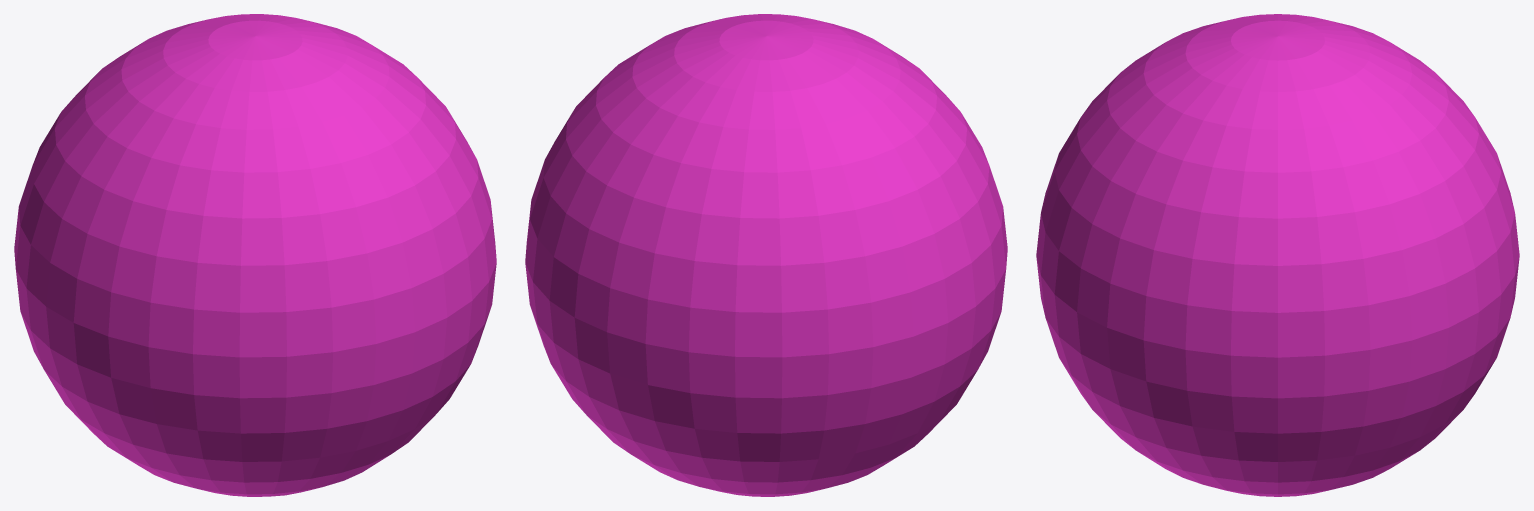
File: purple sircl.fbx
3 renders of one model, left to right at view 1: azimuth 30°, elevation 25°; view 2: azimuth 150°, elevation 25°; view 3: azimuth 270°, elevation 25°, orthographic.
Visible parts, largest first — view 1: Sphere; view 2: Sphere; view 3: Sphere.
Part boxes in pixels (box(x1,y1,x2,y2)): Sphere: box(14, 14, 496, 496); Sphere: box(525, 14, 1007, 496); Sphere: box(1036, 14, 1519, 496).
Bounding box in the file's own units: 200 × 200 × 200.
